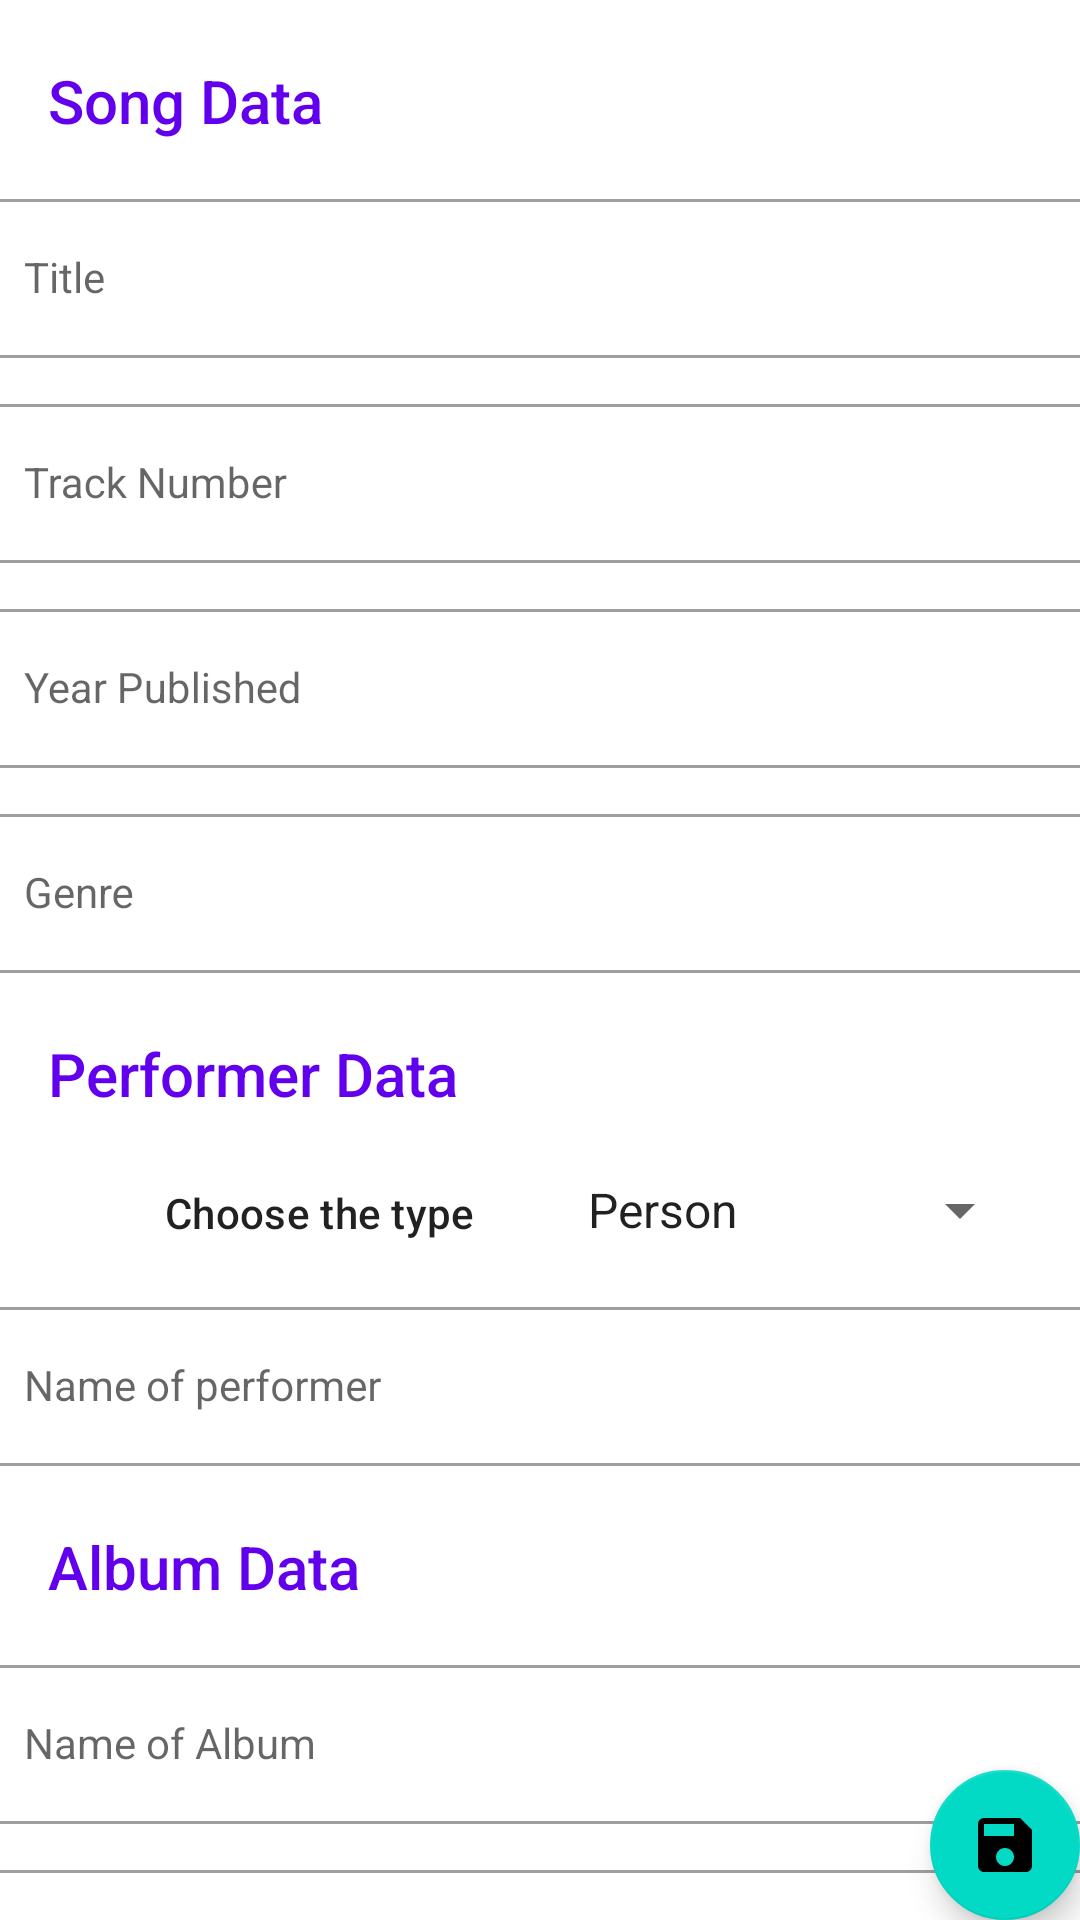

Icons on this 1080x1920 Android screen, each with the point to tap as (x=x, y=y):
save: (x=1005, y=1845)
